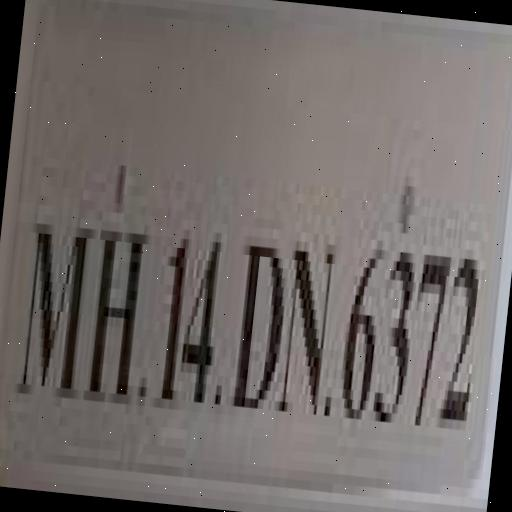number plate: (0, 68, 503, 506)
